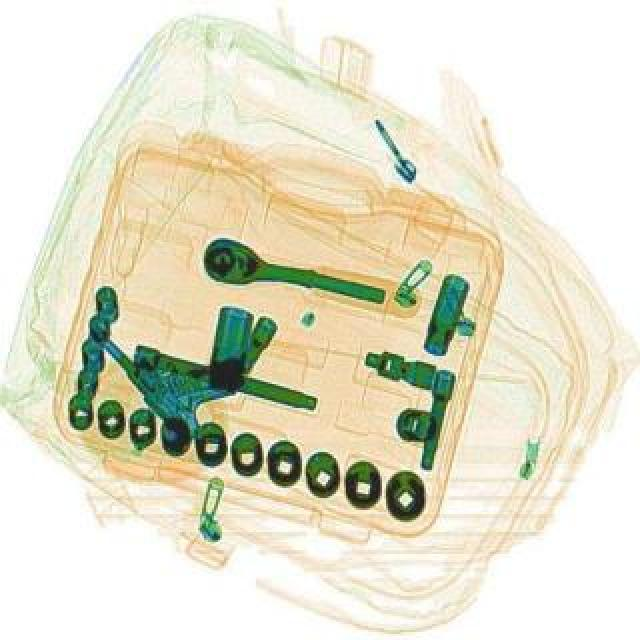gun: (78, 278, 256, 444)
